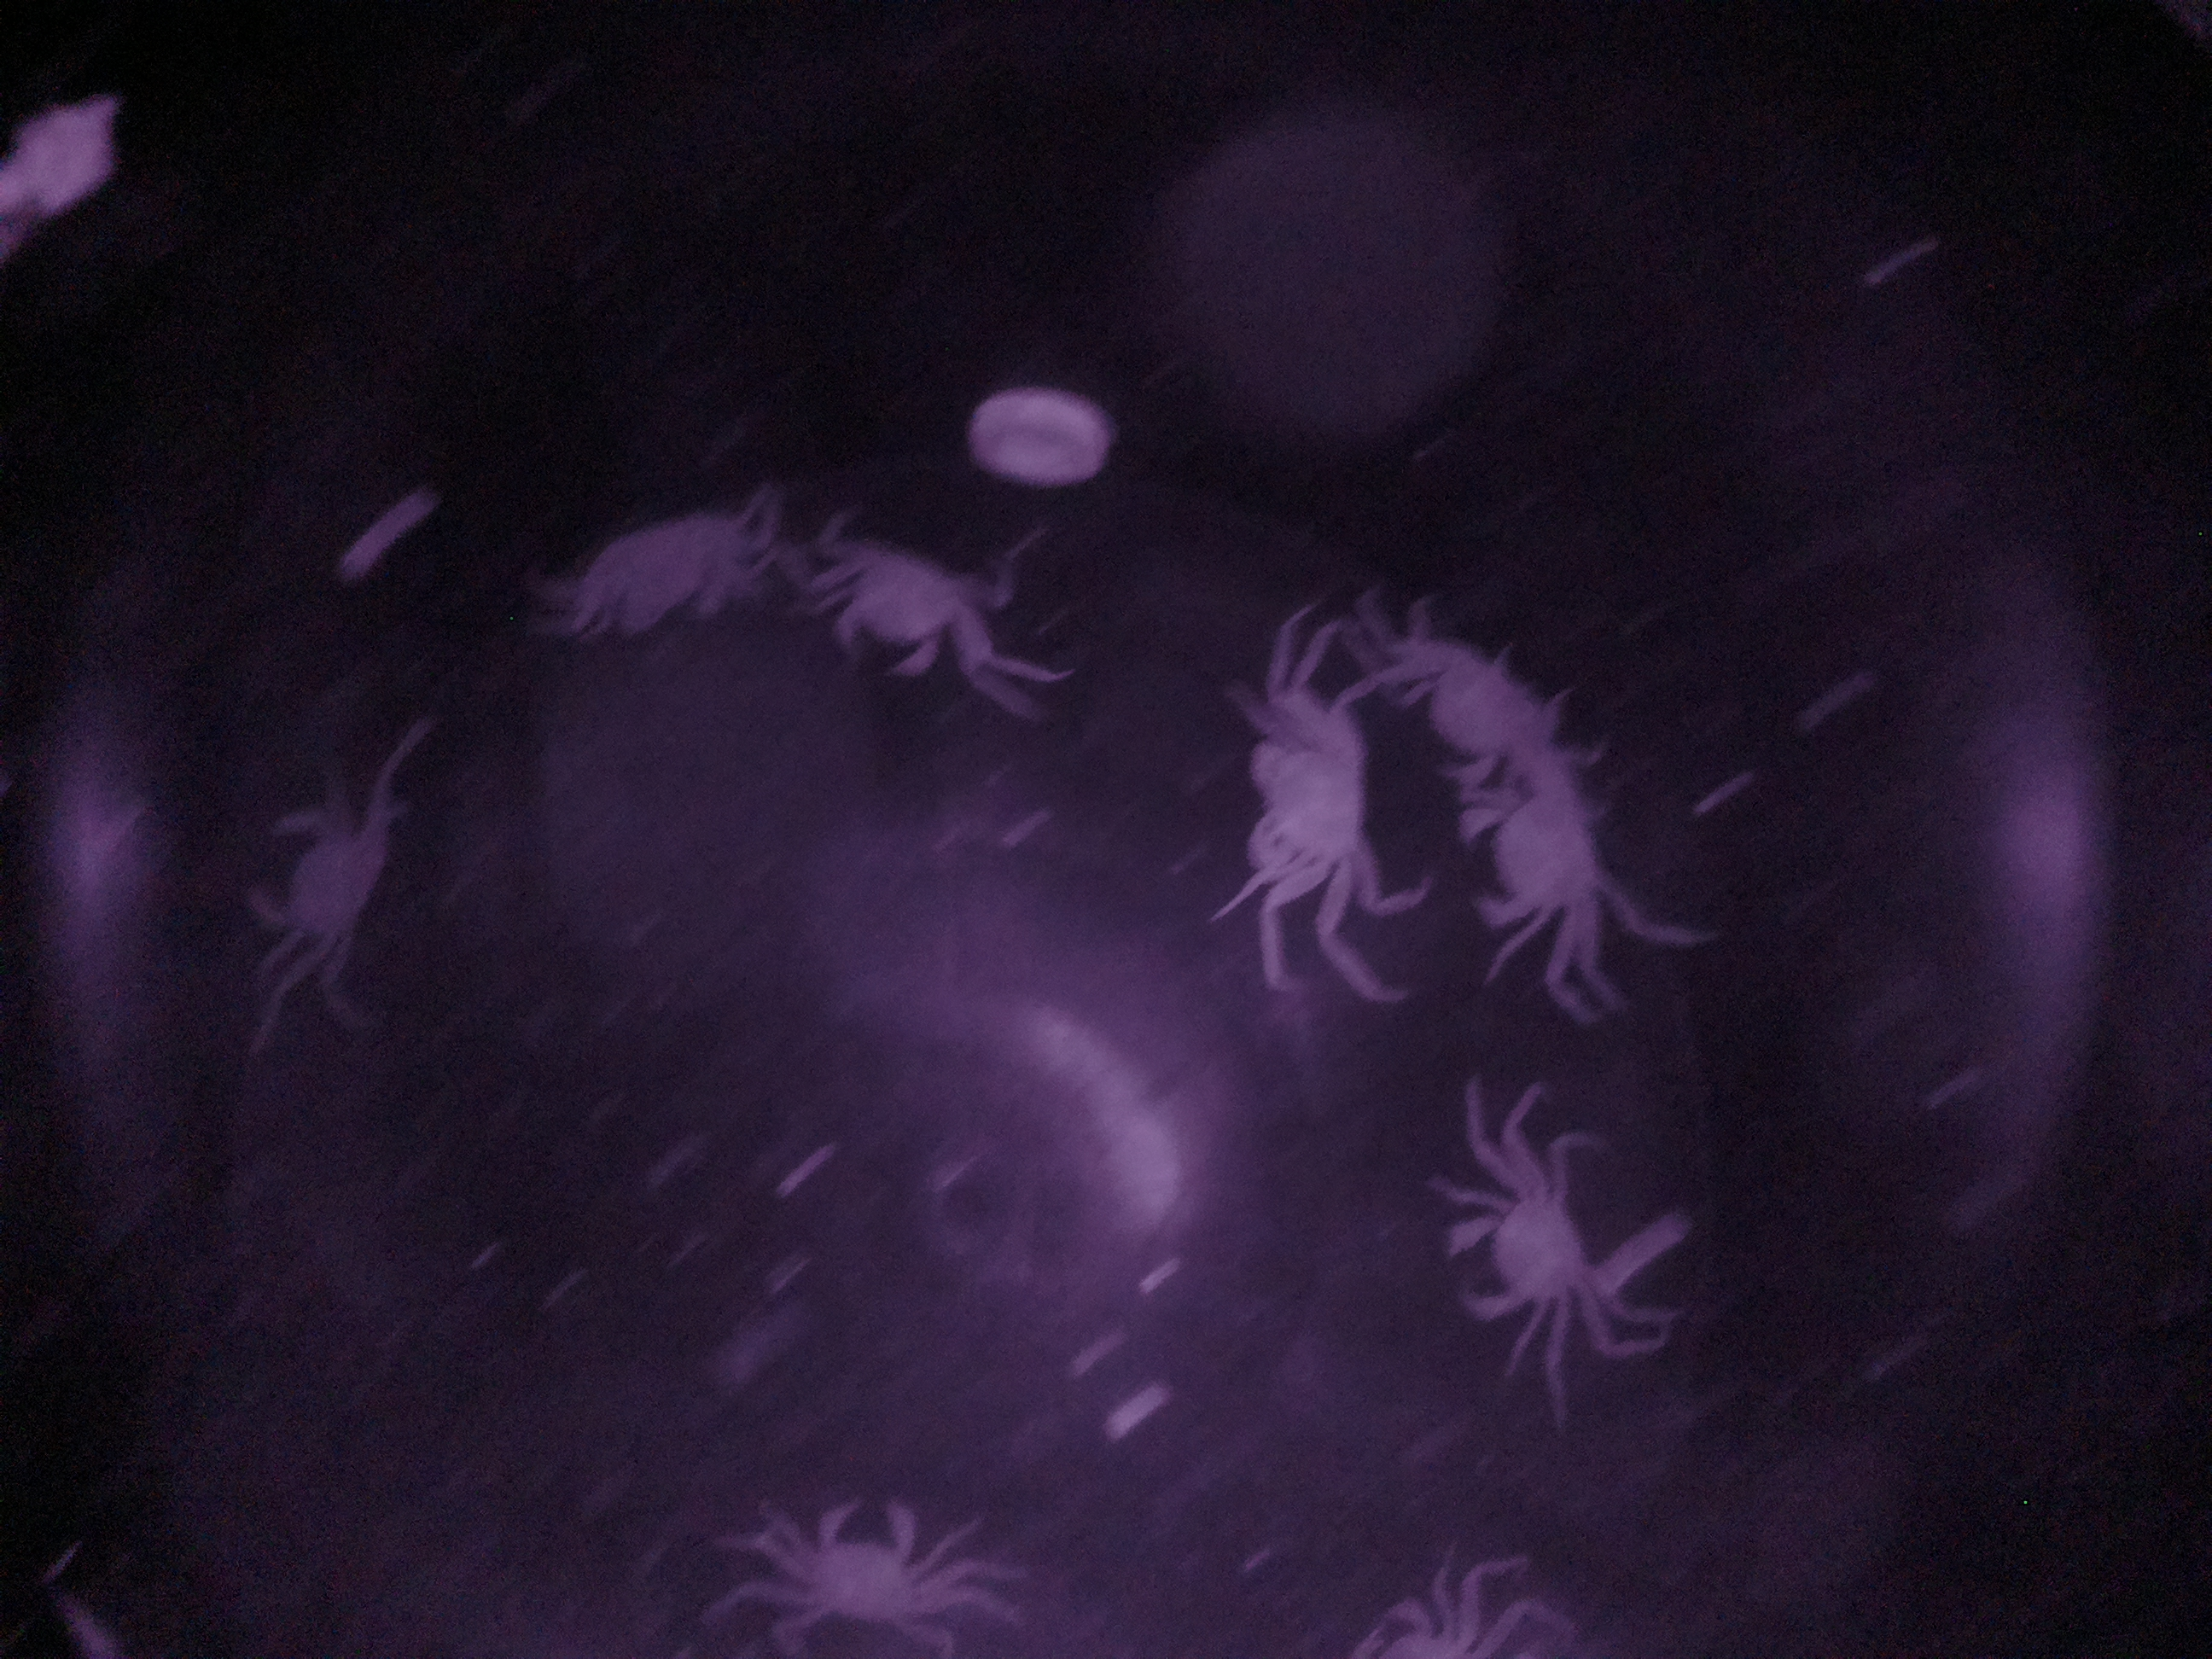Crab: (1221, 664, 1383, 938), (1418, 1150, 1618, 1349)
